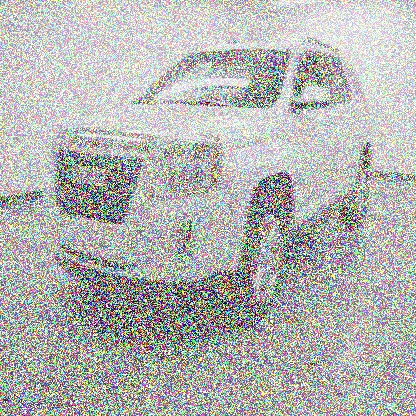Vehicle: (40, 36, 373, 312)
